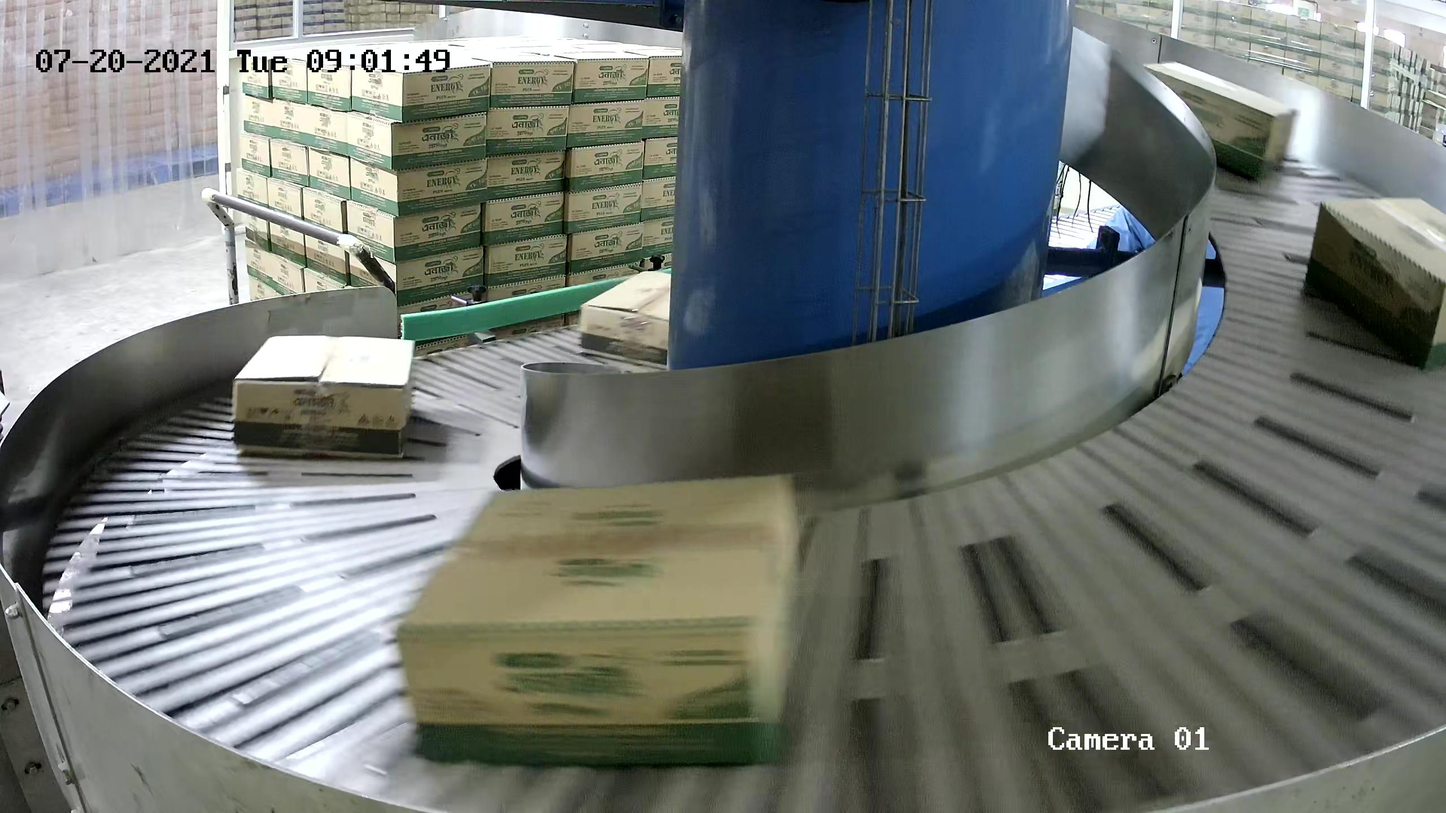Box: (397, 472, 807, 766), (1304, 196, 1446, 376), (230, 333, 417, 461), (1136, 61, 1299, 195), (576, 265, 728, 373)
